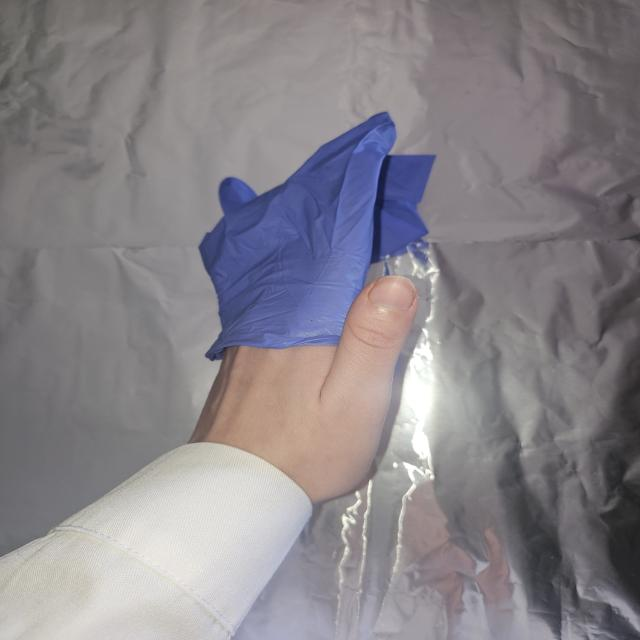glove_partial: (184, 109, 438, 505)
